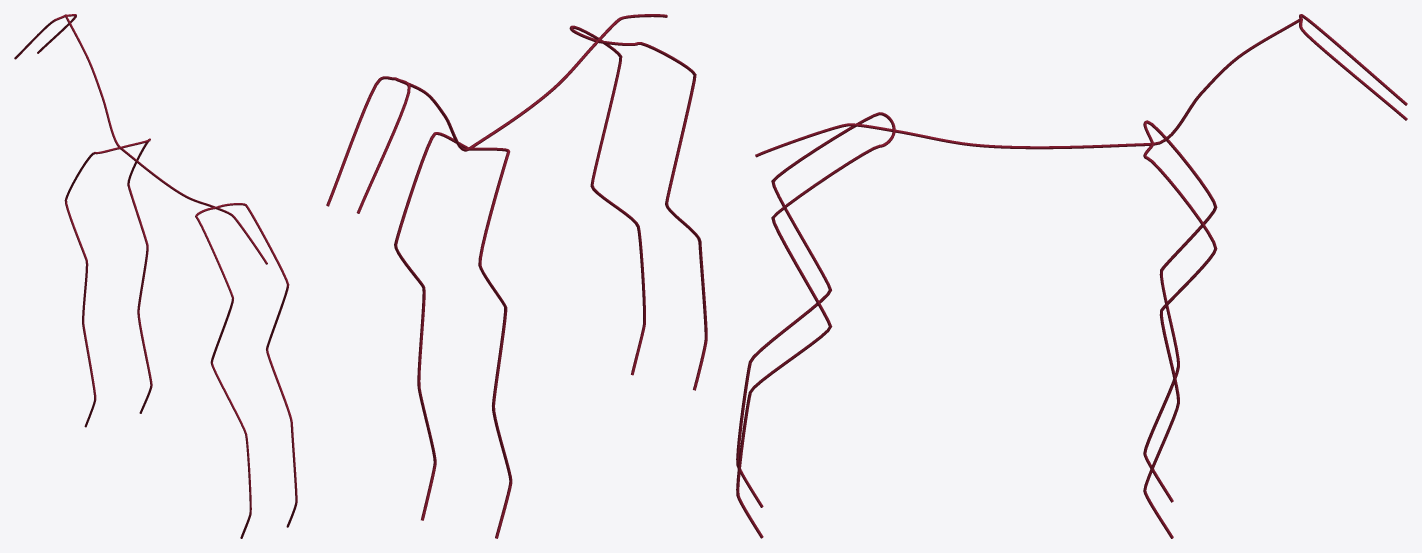
Rendered from Horse Circulatory System.fbx.
3 views of the same model, side by side, from view 1: azimuth 30°, elevation 25°; view 2: azimuth 150°, elevation 25°; view 3: azimuth 270°, elevation 25° (orthographic). The views are drawn at different scales.
Parts seen in each view (by area): view 1: Circulatory System; view 2: Circulatory System; view 3: Circulatory System.
Part boxes in pixels (bbox=[...]): Circulatory System: bbox=[14, 14, 297, 538]; Circulatory System: bbox=[326, 14, 707, 538]; Circulatory System: bbox=[736, 14, 1407, 538].
Size of the model in its own units: 0.3151 by 1.72 by 2.07.
